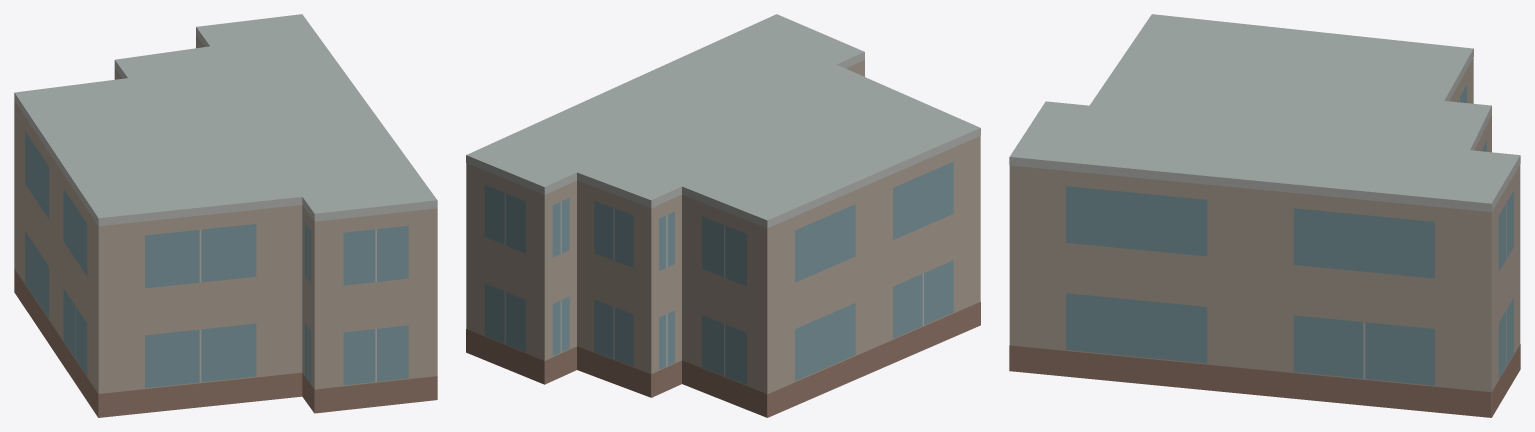
Rendered from survey-upis-32711420.glb.
3 renders of one model, left to right at view 1: azimuth 30°, elevation 25°; view 2: azimuth 150°, elevation 25°; view 3: azimuth 270°, elevation 25°, orthographic. The views are drawn at different scales.
Visible parts, largest first — view 1: survey-upis-32711420.tmp; view 2: survey-upis-32711420.tmp; view 3: survey-upis-32711420.tmp.
Part boxes in pixels (<box>): survey-upis-32711420.tmp: <box>14,14,437,417</box>; survey-upis-32711420.tmp: <box>466,14,980,417</box>; survey-upis-32711420.tmp: <box>1009,14,1520,417</box>.
Size of the model in its own units: 11.59 by 6.1 by 13.2.
